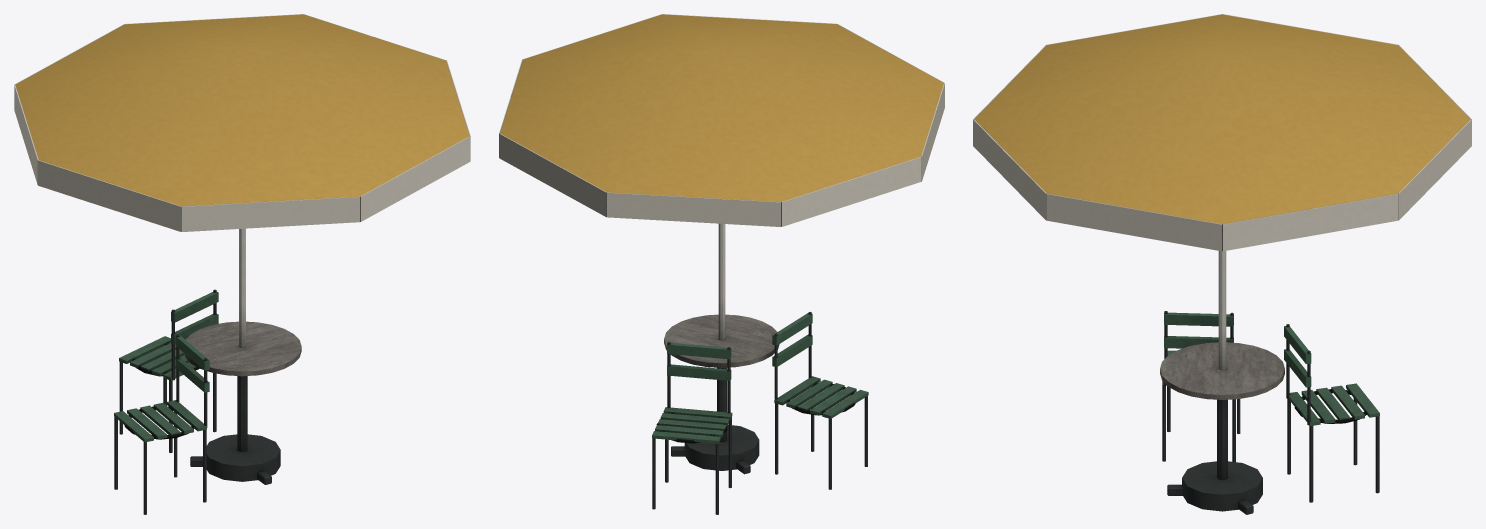
The model's file is cafe_set_ochre.glb.
3 renders of one model, left to right at view 1: azimuth 30°, elevation 25°; view 2: azimuth 150°, elevation 25°; view 3: azimuth 270°, elevation 25°, orthographic. The views are drawn at different scales.
Parts seen in each view (by area): view 1: cafe_set_ochre; view 2: cafe_set_ochre; view 3: cafe_set_ochre.
Boxes of the visible parts, <box> form: cafe_set_ochre: <box>14,14,470,514</box>; cafe_set_ochre: <box>499,14,944,514</box>; cafe_set_ochre: <box>973,14,1471,514</box>.
Size of the model in its own units: 2.71 by 2.62 by 2.71.
Materials: 1 (1 with a texture image).
